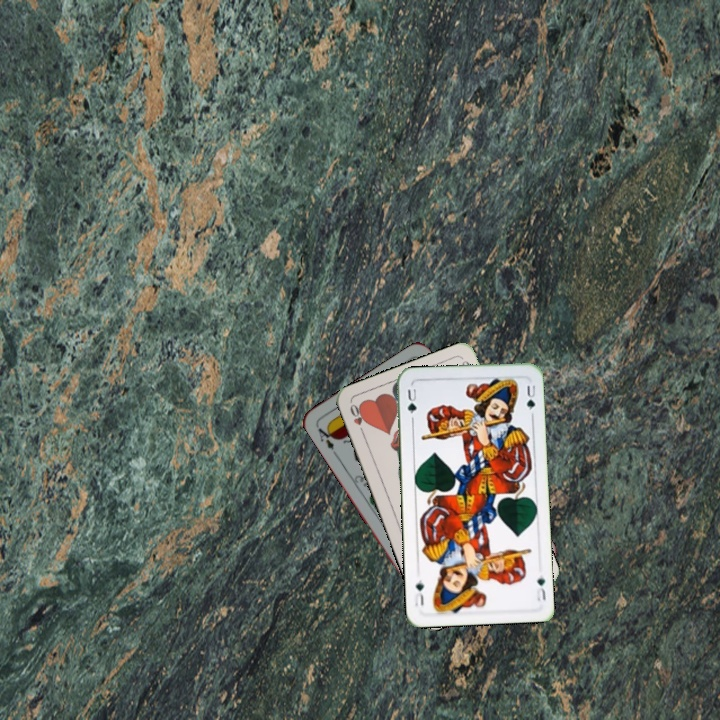EA: (313, 422, 338, 452)
GU: (532, 571, 548, 604), (403, 384, 419, 416)
HO: (346, 400, 368, 439)
